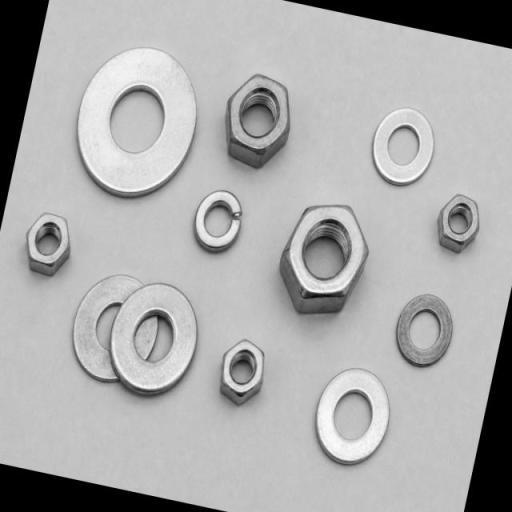Nut: (279, 203, 370, 315), (226, 73, 291, 169), (219, 338, 266, 406), (26, 212, 72, 277), (437, 193, 480, 255)
Washer: (76, 47, 198, 198), (110, 282, 200, 395), (71, 274, 157, 384), (315, 368, 391, 467), (371, 107, 435, 187), (395, 293, 454, 369), (192, 189, 243, 255)
